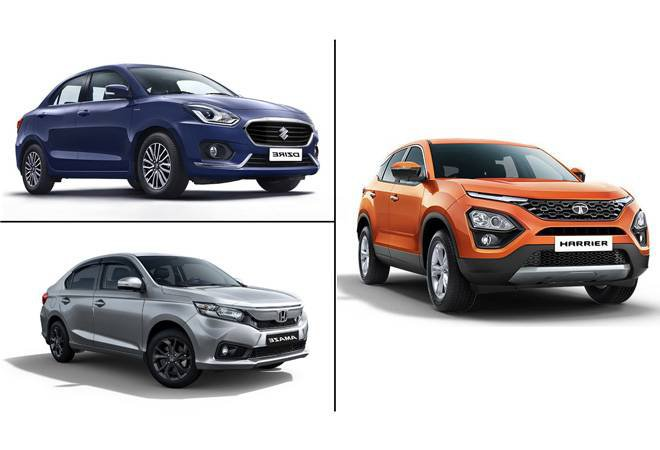car: (357, 132, 651, 314), (15, 61, 319, 196), (37, 245, 308, 382)
